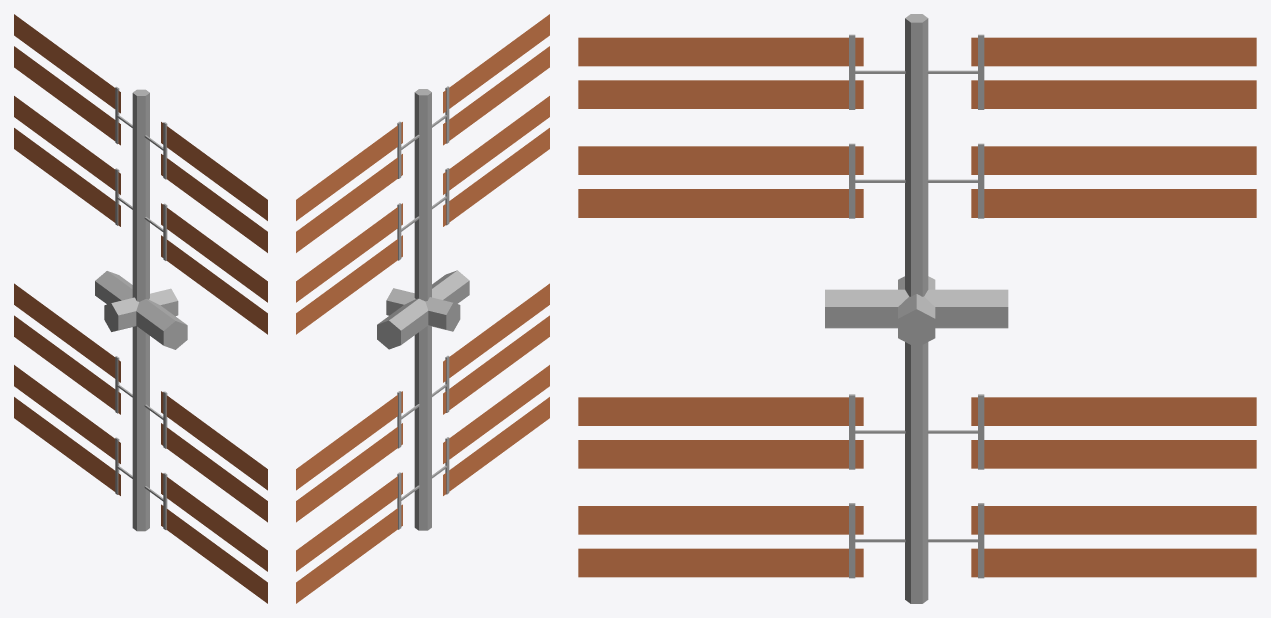
Rendered from iss_lowpoly.glb.
3 renders of one model, left to right at view 1: azimuth 30°, elevation 25°; view 2: azimuth 150°, elevation 25°; view 3: azimuth 270°, elevation 25°, orthographic. The views are drawn at different scales.
Visible parts, largest first — view 1: Cube; view 2: Cube; view 3: Cube.
Part boxes in pixels (x1,y1,x2,y2): Cube: (14,14,267,603); Cube: (296,14,549,603); Cube: (578,14,1256,603).
Bounding box in the file's own units: 4.31 × 29.9 × 31.6.
